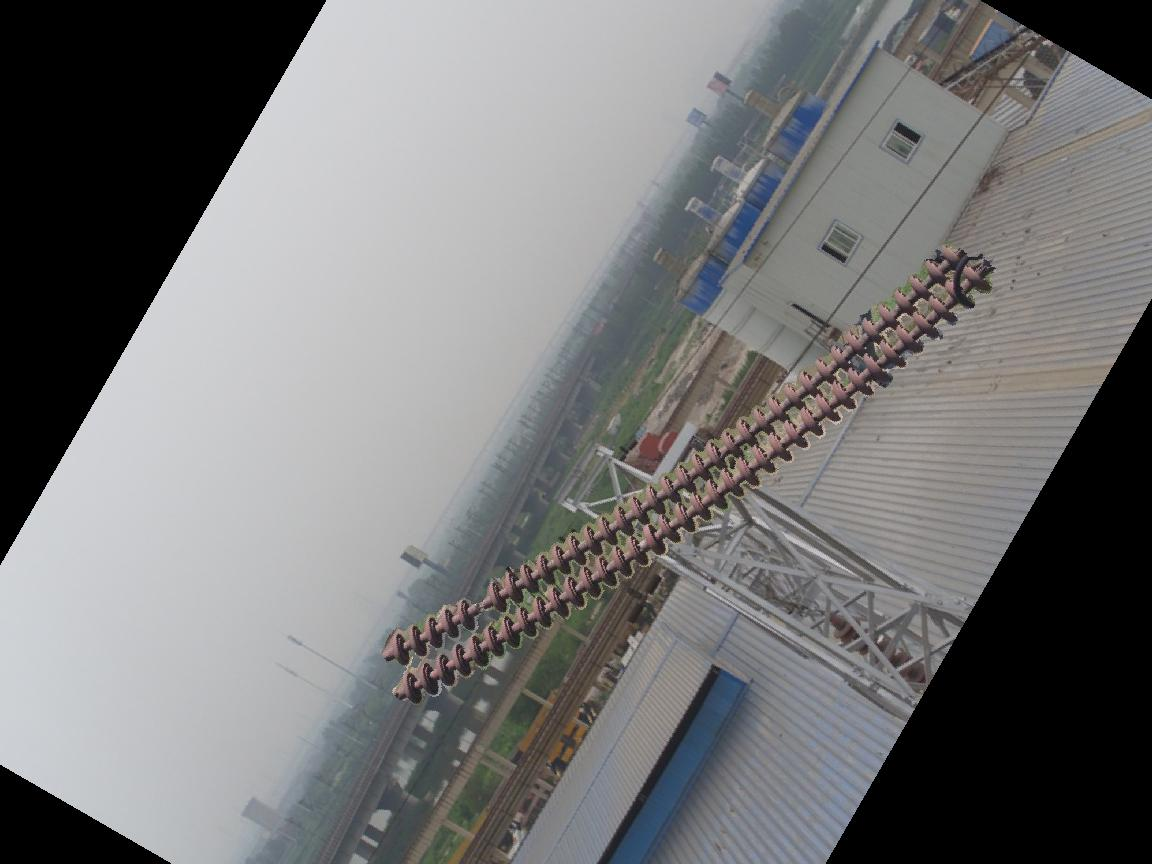insulator: (380, 237, 992, 710), (831, 612, 932, 687)
insulator_stringdrop: (453, 575, 510, 631)
